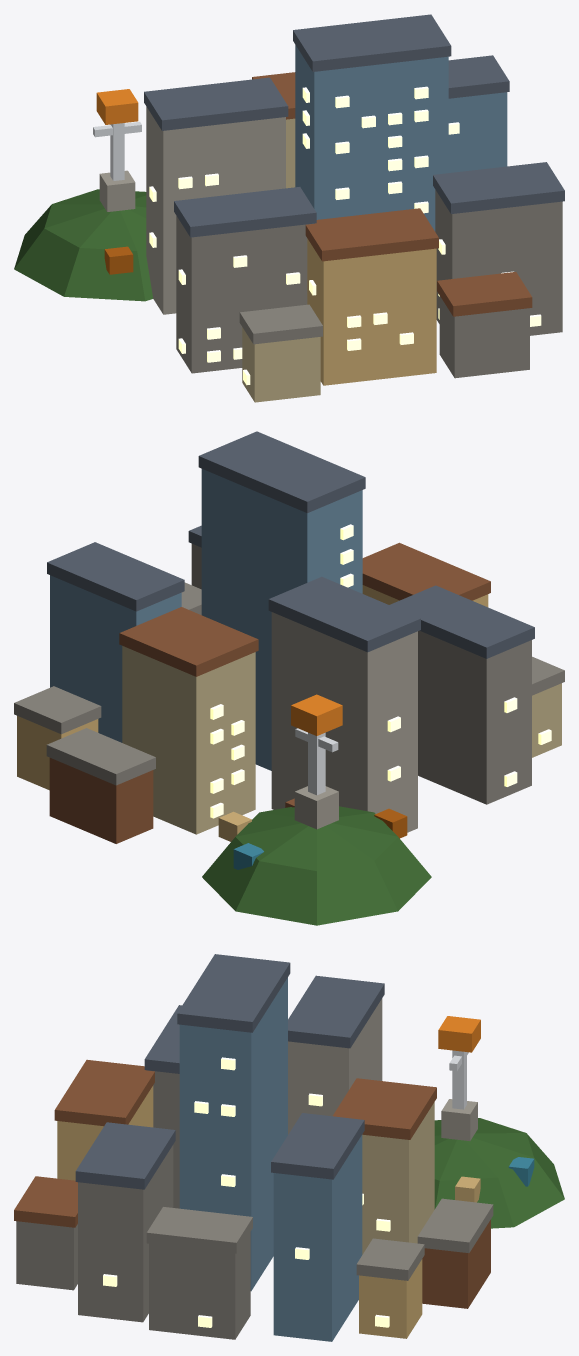
Rendered from overworld-settlement-latin-american-city.glb.
3 renders of one model, top to bottom at view 1: azimuth 30°, elevation 25°; view 2: azimuth 150°, elevation 25°; view 3: azimuth 270°, elevation 25°, orthographic. The views are drawn at different scales.
Parts seen in each view (by area): view 1: settlement; view 2: settlement; view 3: settlement.
Boxes of the visible parts, x1,y1,x2,y2 form: settlement: [14, 14, 564, 402]; settlement: [14, 431, 564, 925]; settlement: [14, 954, 564, 1341].
Size of the model in its own units: 0.4776 by 0.3011 by 0.5559.
